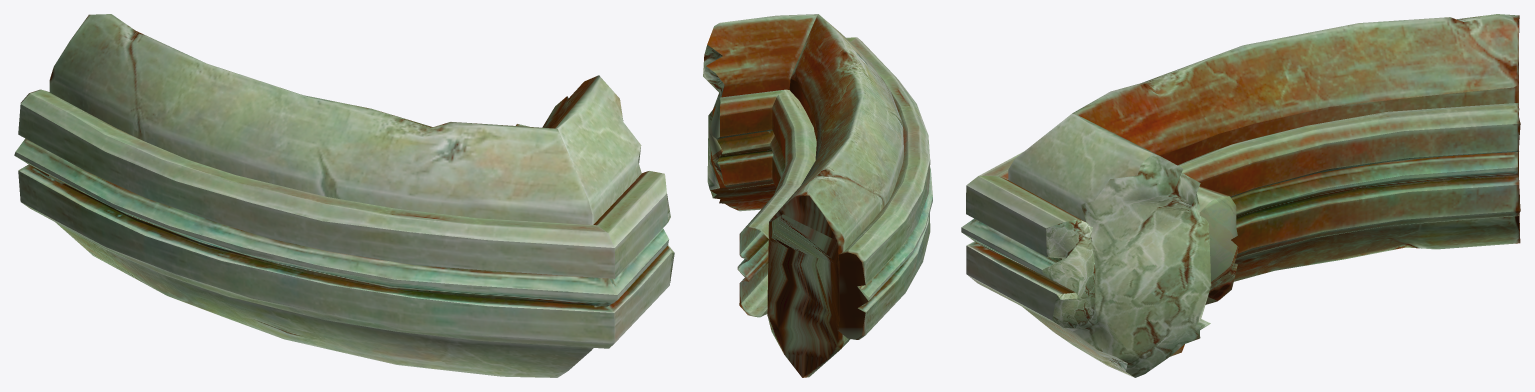
File: Ruins_Collumn_Arch_Dmg_A.fbx
The picture shows the model from 3 angles, left to right: view 1: azimuth 30°, elevation 25°; view 2: azimuth 150°, elevation 25°; view 3: azimuth 270°, elevation 25°; orthographic projection. The views are drawn at different scales.
Visible parts, largest first — view 1: Ruins_Collumn_Arch_Dmg_A; view 2: Ruins_Collumn_Arch_Dmg_A; view 3: Ruins_Collumn_Arch_Dmg_A.
Part boxes in pixels (<box>): Ruins_Collumn_Arch_Dmg_A: <box>14,14,674,377</box>; Ruins_Collumn_Arch_Dmg_A: <box>703,14,932,377</box>; Ruins_Collumn_Arch_Dmg_A: <box>961,14,1520,377</box>.
Bounding box in the file's own units: 757 × 436 × 946.
